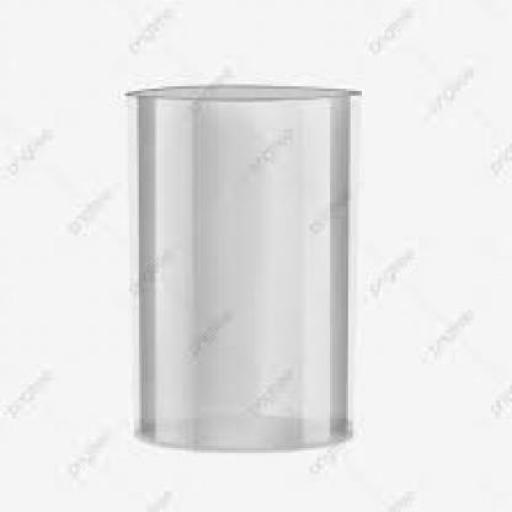glass: (125, 84, 353, 446)
